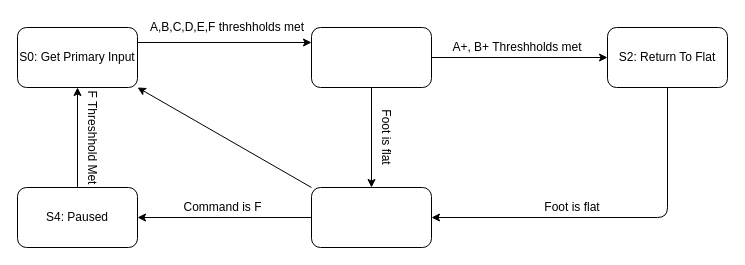
The diagram is 745 pixels wide and 265 high, and some of its shapes have lost their labels. Here are the shapes that lost their labels. From the top down, the centre of each, then its label:
[371,57]: S1: Get Secondary Input
[371,217]: S3: Send Command
